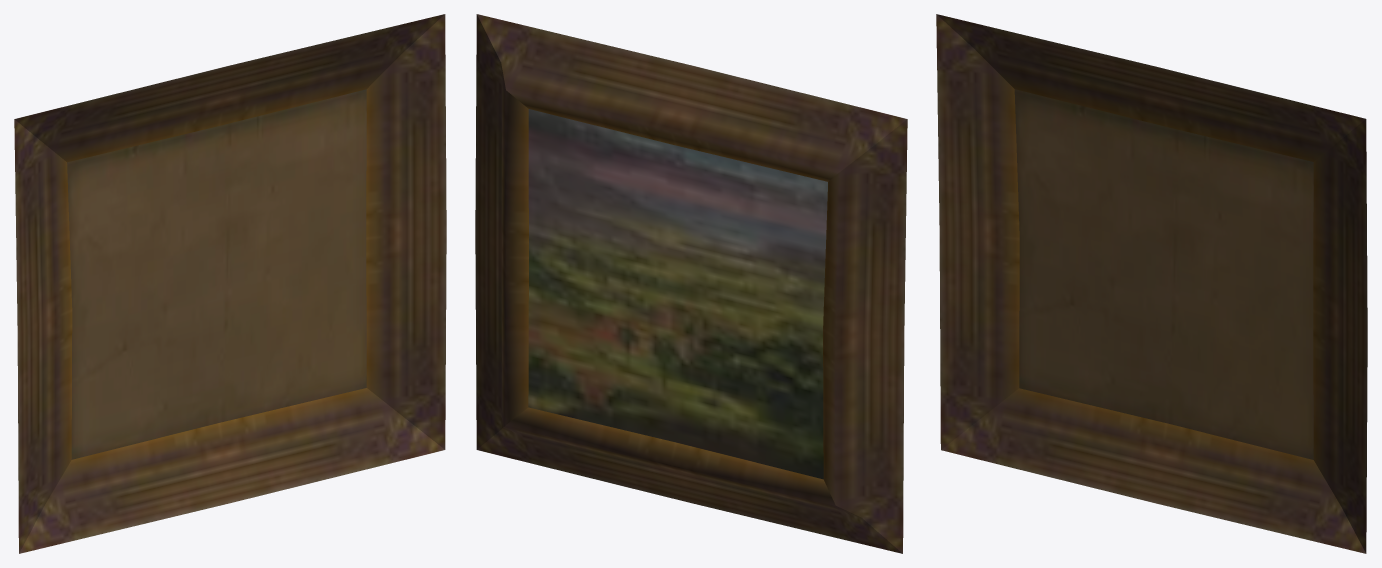
Rendered from eso_gu1_WallPainting1-transformed.glb.
3 renders of one model, left to right at view 1: azimuth 30°, elevation 25°; view 2: azimuth 150°, elevation 25°; view 3: azimuth 330°, elevation 25°, orthographic.
Visible parts, largest first — view 1: default; view 2: default; view 3: default.
Boxes of the visible parts, box(x1,y1,x2,y2) form: default: box(14, 14, 446, 553); default: box(475, 14, 907, 553); default: box(936, 14, 1367, 553).
Bounding box in the file's own units: 1.05 × 1.02 × 0.0802.
1 material, 1 textured.
